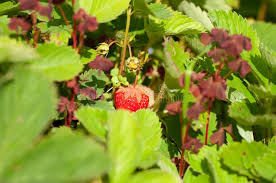ripe: (111, 83, 155, 114)
